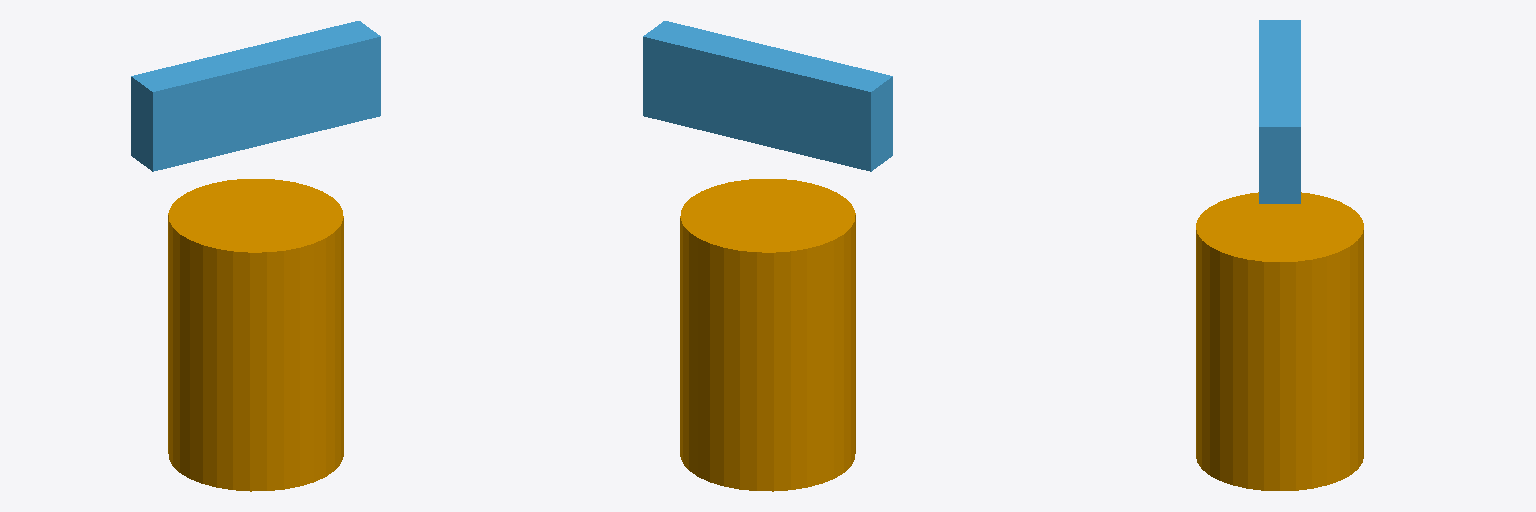
robot.urdf — multipleshapes:
<?xml version="1.0"?>
<robot name="multipleshapes">
  <link name="base_link">
    <visual>
      <geometry>
        <cylinder length="0.6" radius="0.2"/>
      </geometry>
    </visual>
  </link>

  <link name="right_leg">
    <visual>
      <geometry>
        <box size="0.6 0.1 0.2"/>
      </geometry>
    </visual>
  </link>

  <joint name="base_to_right_leg" type="fixed">
    <parent link="base_link"/>
    <child link="right_leg"/>
    <origin xyz="0 0 0.6"/>
  </joint>

</robot>

--- What the picture shows (computed from the rendered views, not written in the file) ---
The picture shows the robot from 3 angles, left to right: view 1: azimuth 30°, elevation 25°; view 2: azimuth 150°, elevation 25°; view 3: azimuth 270°, elevation 25°; orthographic projection.
Robot: multipleshapes — 2 links, 1 joints (1 fixed); root link base_link; default pose: every joint at zero.
Visible links, largest first — view 1: base_link, right_leg; view 2: base_link, right_leg; view 3: base_link, right_leg.
Boxes of the visible links, x1,y1,x2,y2 form: base_link: (168,179,343,491); right_leg: (131,21,380,171); base_link: (680,179,855,491); right_leg: (643,21,892,171); base_link: (1196,192,1363,490); right_leg: (1259,20,1300,203).
Bounding box of the posed robot: 0.6 × 0.4 × 1 m (x, y, z).
Geometry: primitives only (box / cylinder / sphere), no mesh files.
